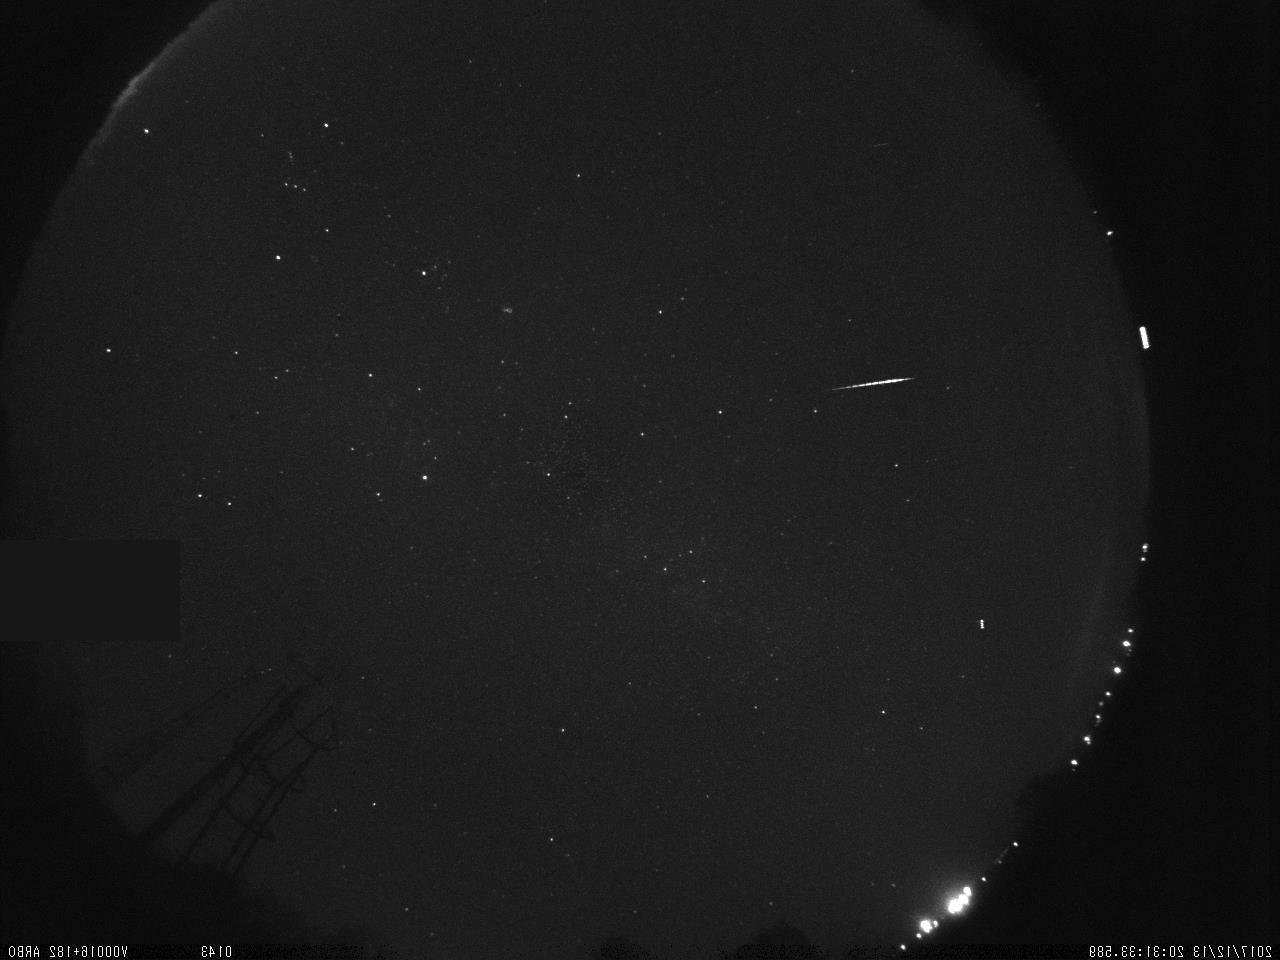meteor: (828, 374, 918, 394)
